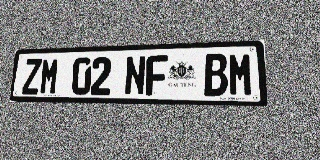0: (71, 57, 92, 95)
2: (90, 56, 112, 95)
B: (204, 53, 228, 96)
F: (146, 55, 168, 96)
M: (228, 53, 254, 96), (39, 58, 60, 95)
N: (124, 56, 146, 95)
Z: (22, 58, 42, 95)
